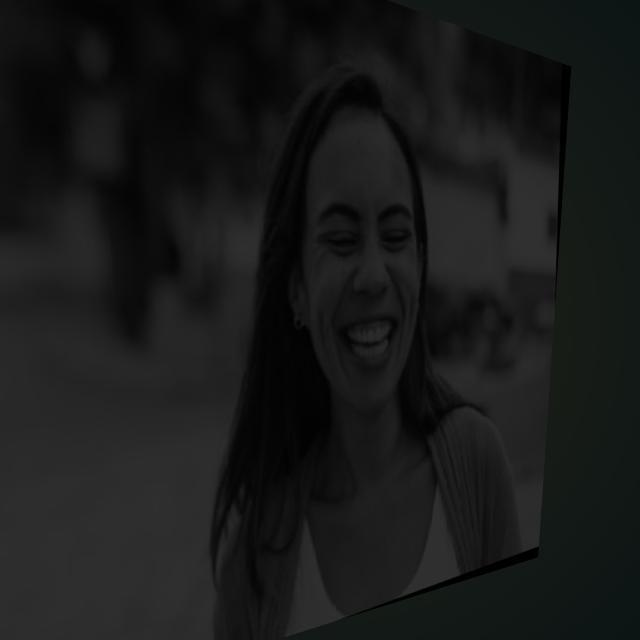Happy: (240, 96, 460, 417)
